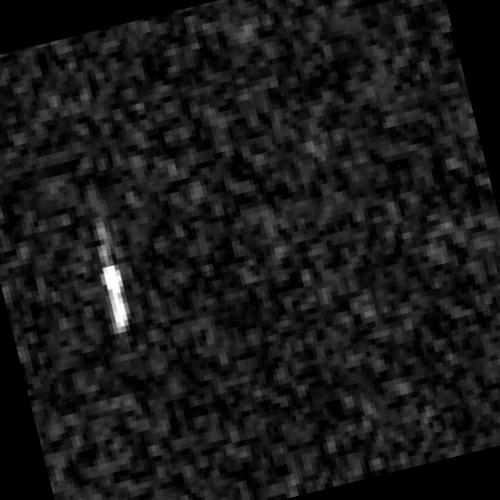ship: (101, 261, 130, 334)
